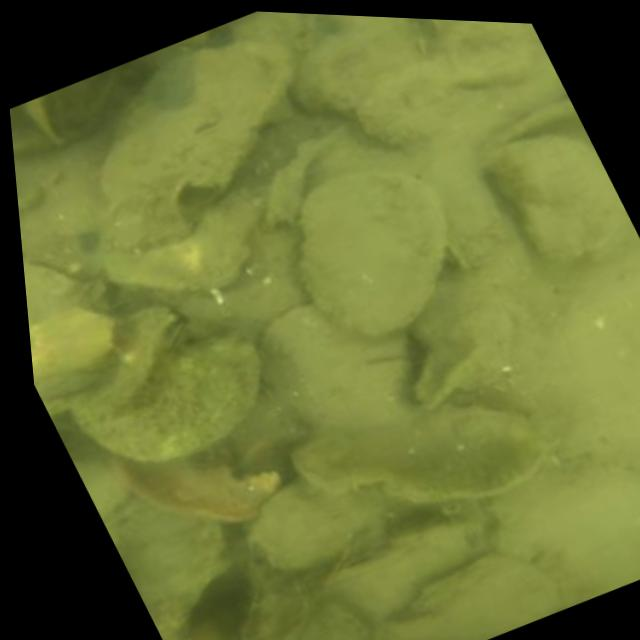Oyster-Closed: (424, 301, 507, 412), (168, 324, 193, 362)
Oyster-Indeterminate: (102, 39, 293, 204), (286, 402, 559, 506), (299, 171, 449, 337), (73, 328, 258, 462), (252, 294, 415, 435), (370, 550, 560, 640), (318, 508, 484, 608), (292, 16, 426, 115), (247, 477, 389, 568), (72, 306, 180, 422), (360, 58, 459, 140), (441, 21, 529, 85), (291, 598, 365, 640)
Oyster-Open: (488, 103, 626, 261)
